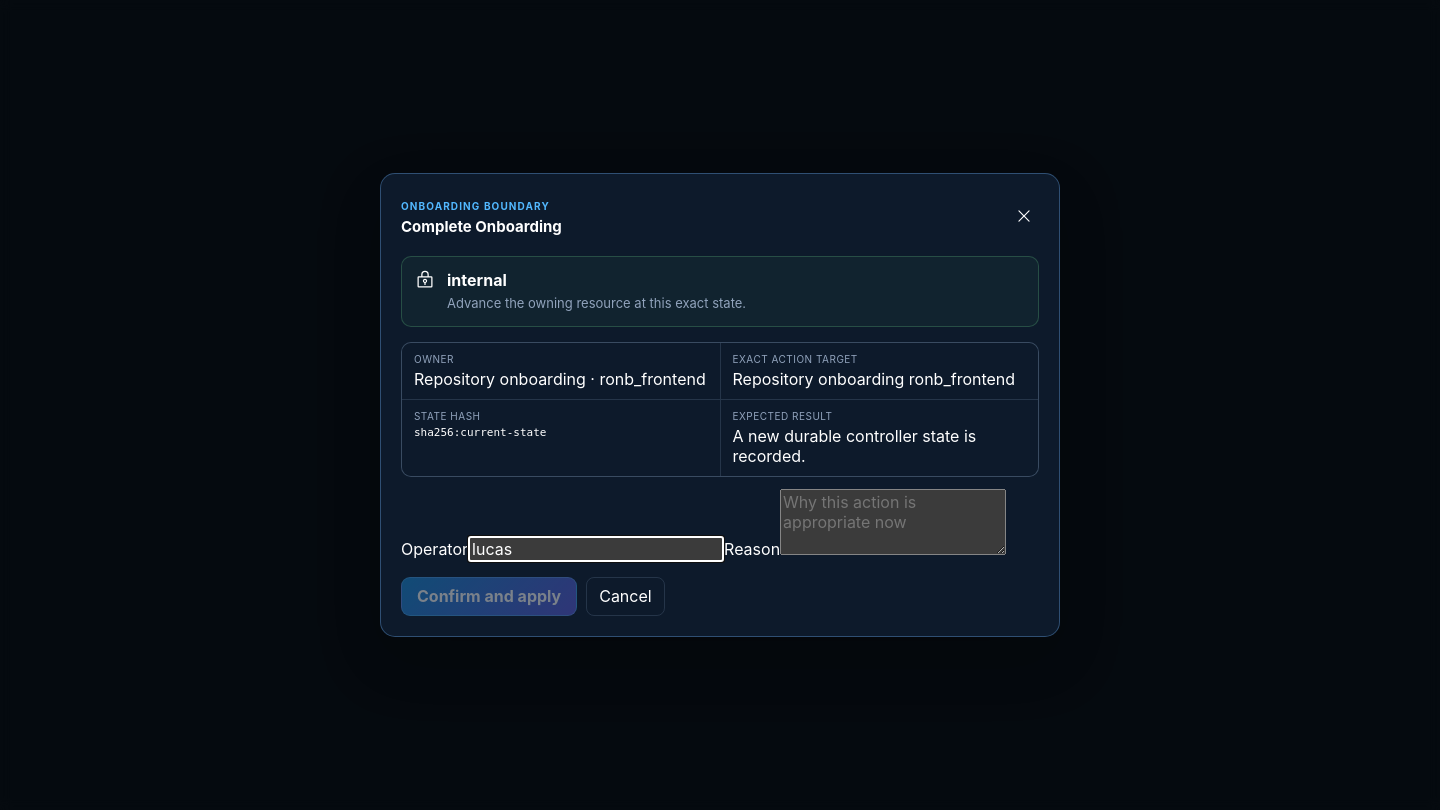
it: Repo Mode action review › clears the pending state and keeps the server blocker visible after a 409
Type "Complete the reviewed onboarding" into the text box labelled "Reason".
click(893, 522); type("Complete the reviewed onboarding")  # box [780, 489, 1006, 555]
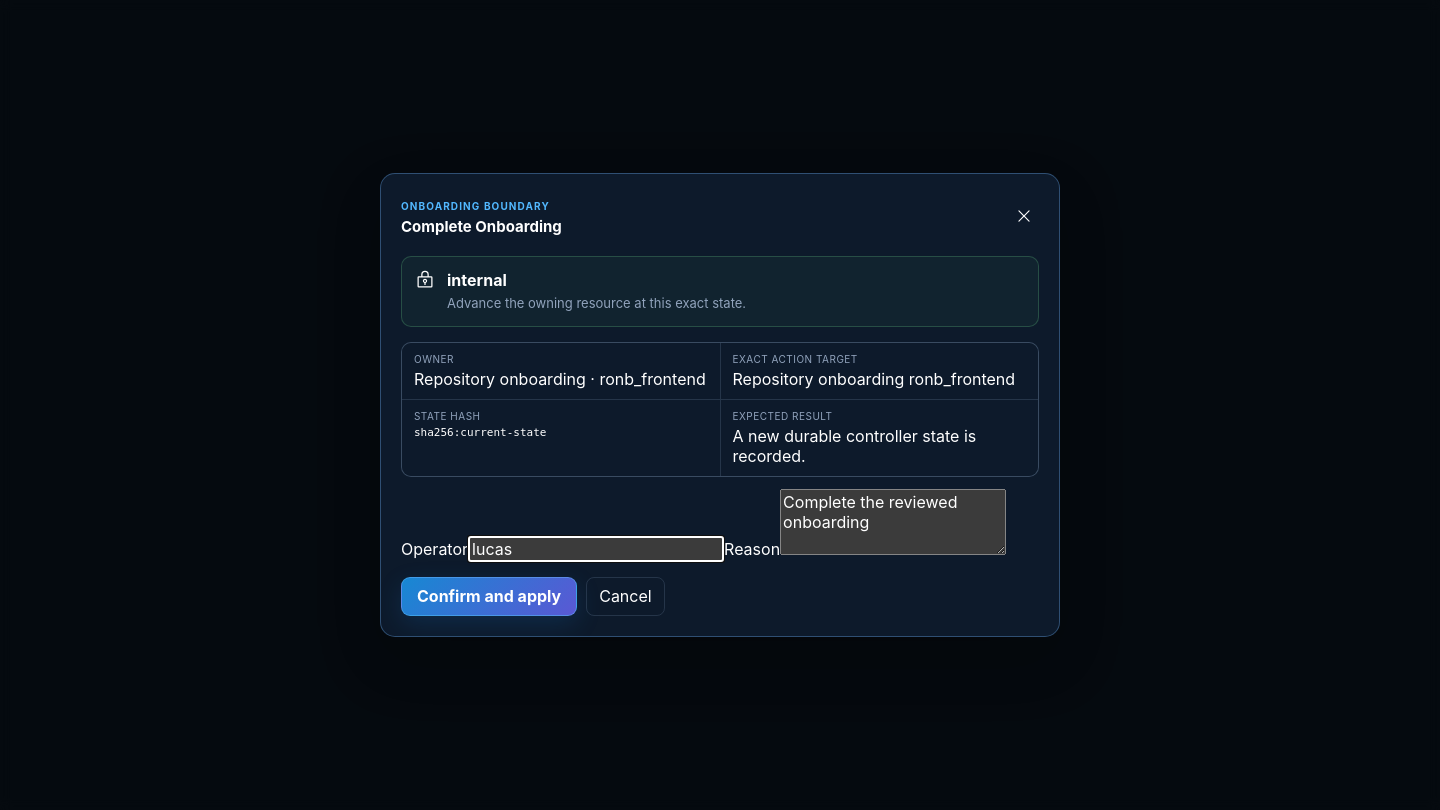
Click the button "Confirm and apply".
click(489, 596)  # box [401, 577, 577, 616]
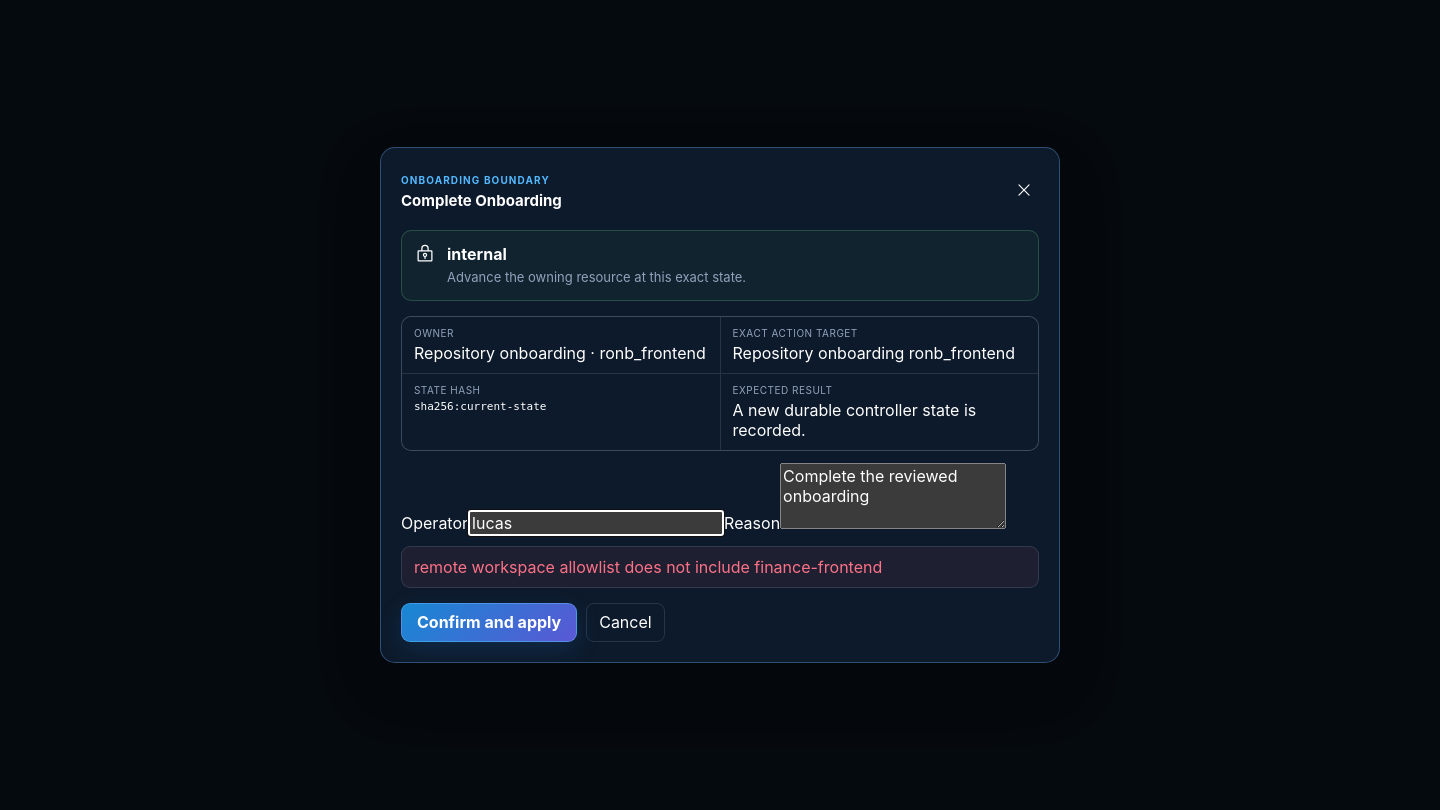
Result: the button "Confirm and apply" is enabled at [401, 603, 577, 642]
Result: the message reads "remote workspace allowlist does not include finance-frontend" at [414, 557, 882, 577]
